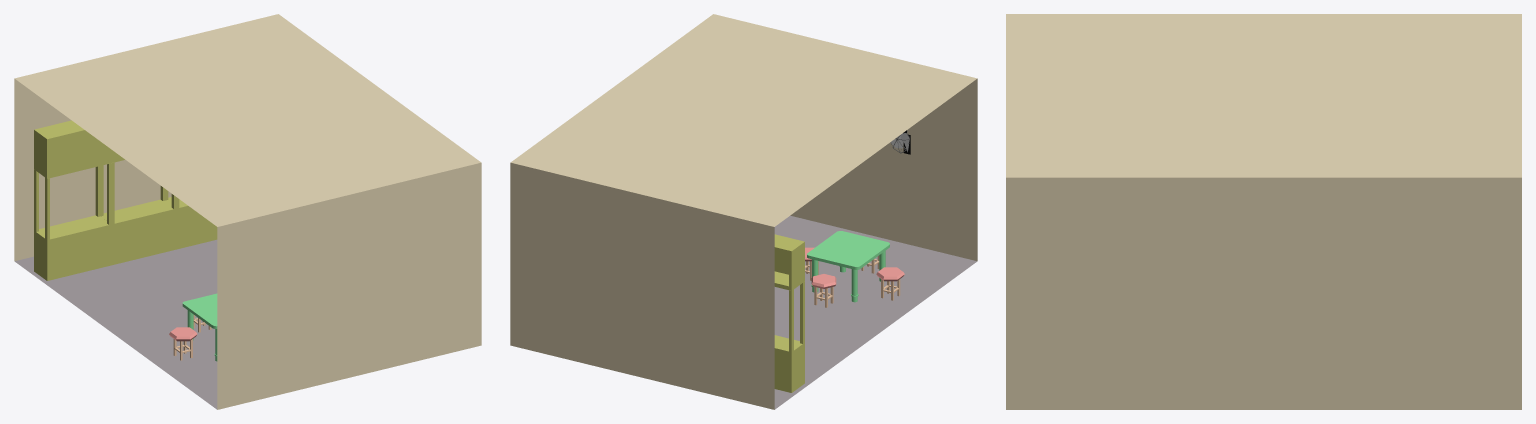
The model's file is canteenroom.glb.
3 renders of one model, left to right at view 1: azimuth 30°, elevation 25°; view 2: azimuth 150°, elevation 25°; view 3: azimuth 270°, elevation 25°, orthographic. The views are drawn at different scales.
Visible parts, largest first — view 1: Cube, Cube.014, Cube.013, Cube.011, table 1, stoolBar(Clone); view 2: Cube, Cube.014, table 1, stoolBar(Clone).002, stoolBar(Clone); view 3: Cube.
Part boxes in pixels (<box>): Cube: <box>14,14,481,409</box>; Cube.014: <box>34,120,111,280</box>; Cube.013: <box>101,150,176,265</box>; Cube.011: <box>165,189,217,249</box>; table 1: <box>182,293,217,361</box>; stoolBar(Clone): <box>169,327,197,360</box>; Cube: <box>510,14,977,409</box>; Cube.014: <box>774,234,804,392</box>; table 1: <box>807,231,889,302</box>; stoolBar(Clone).002: <box>811,274,836,307</box>; stoolBar(Clone): <box>876,267,904,300</box>; Cube: <box>1006,14,1521,409</box>.
Size of the model in its own units: 2.99 by 1.98 by 3.99.
